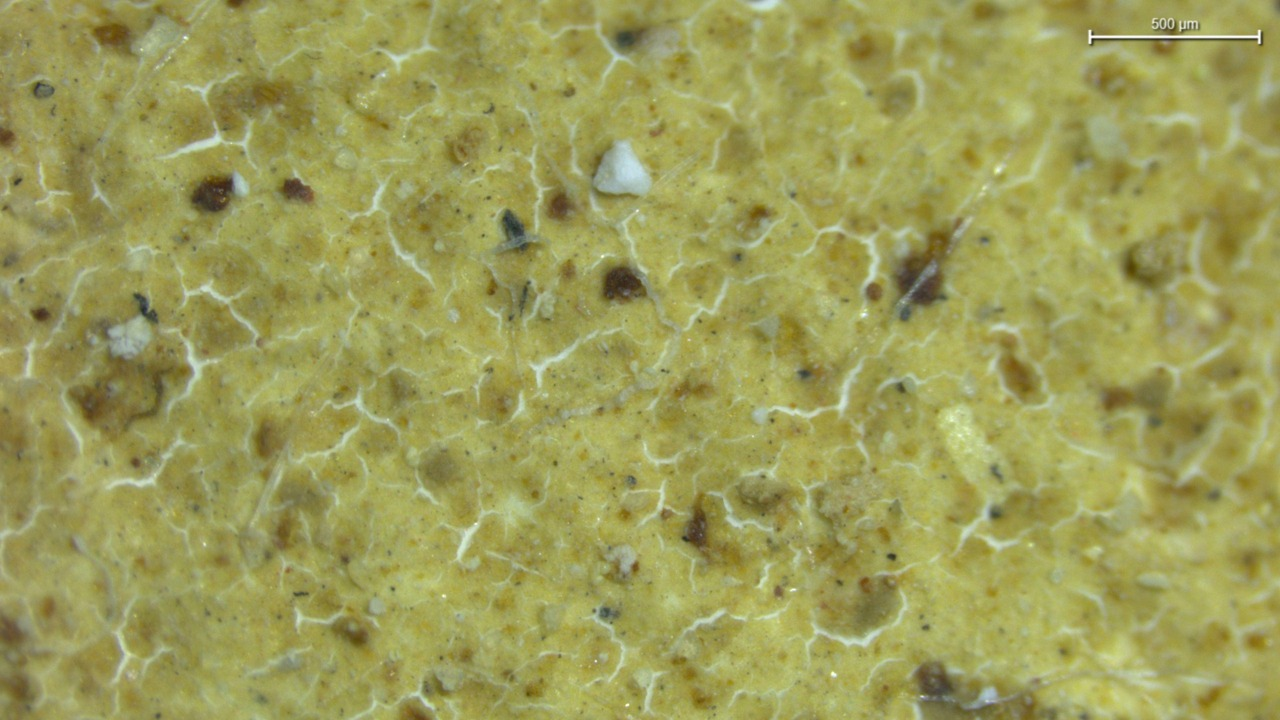microplastic_fragment: (593, 140, 652, 195)
